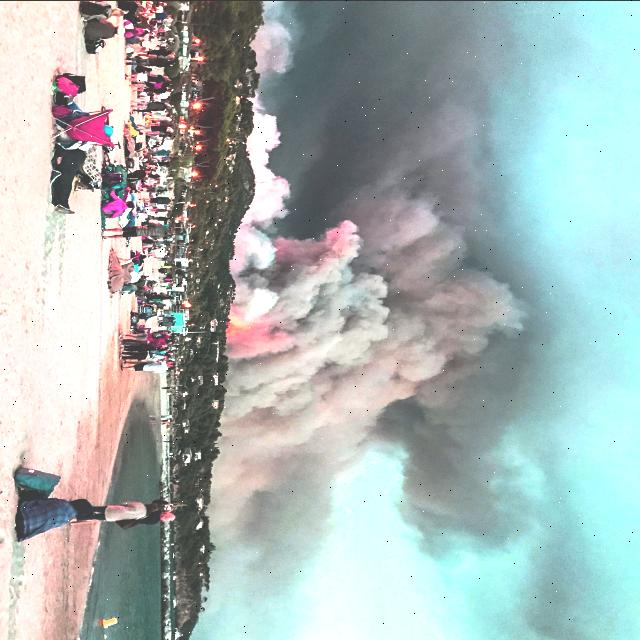asap: (217, 1, 640, 640)
